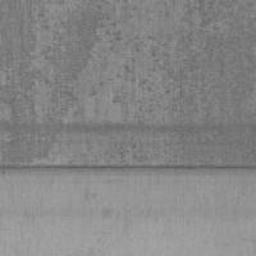Welding line: (0, 165, 256, 173)
